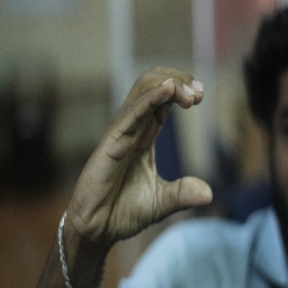C: (93, 60, 221, 220)
